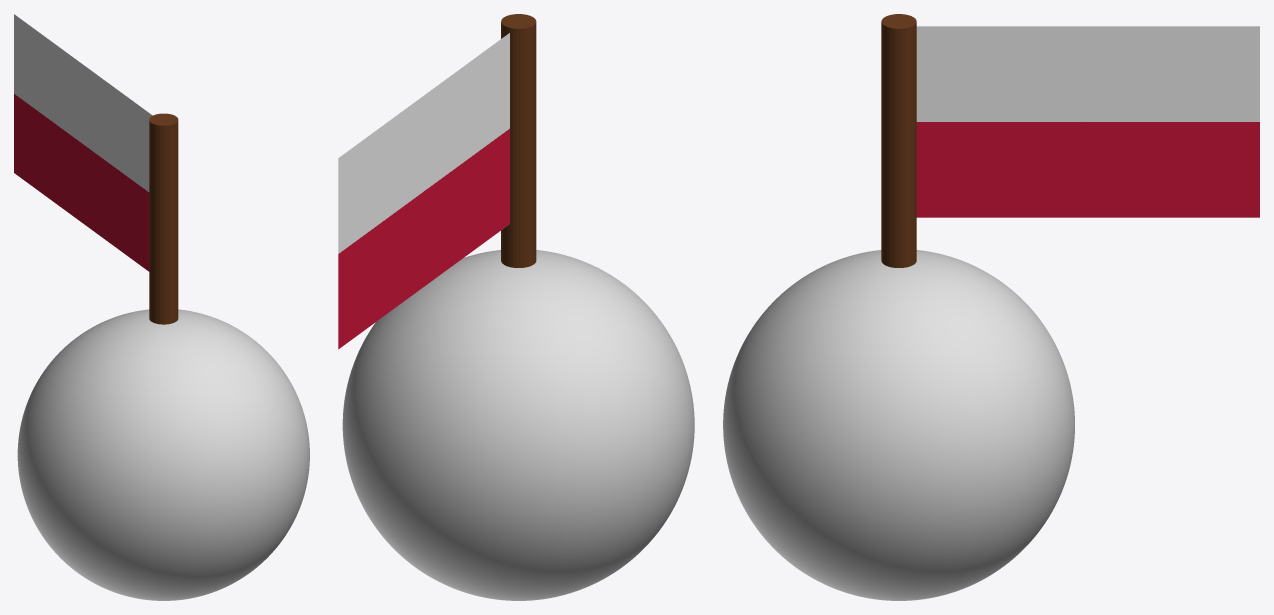
The model's file is Moon_flag.glb.
The picture shows the model from 3 angles, left to right: view 1: azimuth 30°, elevation 25°; view 2: azimuth 150°, elevation 25°; view 3: azimuth 270°, elevation 25°; orthographic projection. The views are drawn at different scales.
Parts seen in each view (by area): view 1: Moon, Flag_Poland, Pole; view 2: Moon, Flag_Poland, Pole; view 3: Moon, Flag_Poland, Pole.
Boxes of the visible parts, x1,y1,x2,y2 form: Moon: (17, 309, 309, 600); Flag_Poland: (14, 14, 152, 271); Pole: (149, 113, 178, 324); Moon: (342, 250, 694, 600); Flag_Poland: (338, 33, 509, 349); Pole: (501, 14, 536, 267); Moon: (723, 250, 1074, 600); Flag_Poland: (916, 26, 1259, 217); Pole: (881, 14, 916, 267).
Bounding box in the file's own units: 2 × 3.53 × 3.05.
4 materials, 2 textured.
